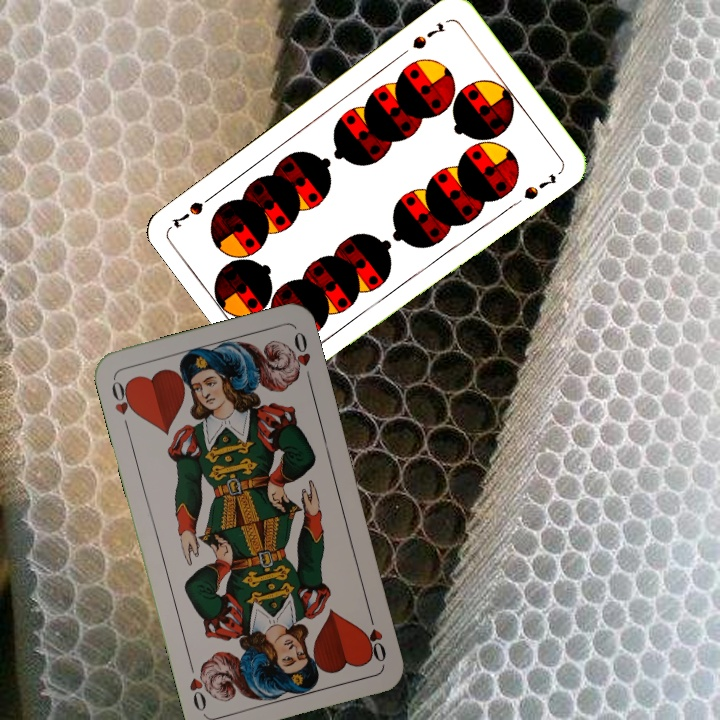HO: (107, 375, 139, 433), (361, 607, 389, 665)
S7: (408, 18, 447, 52)
